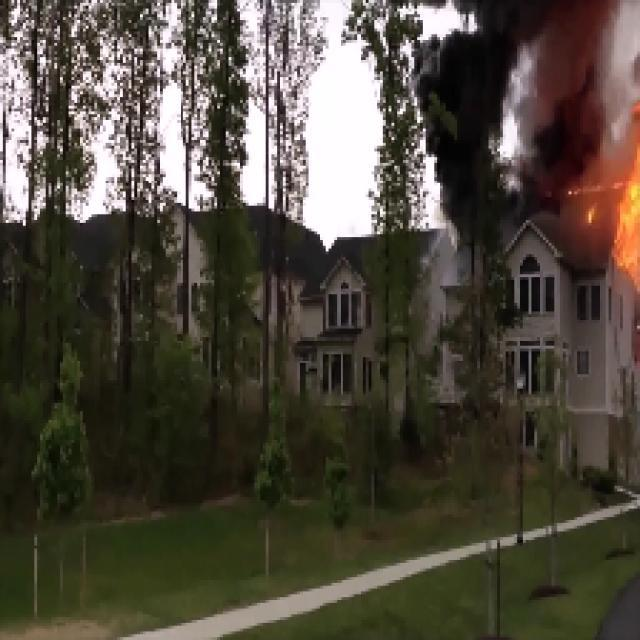Smoke: (414, 30, 530, 209), (536, 6, 605, 156)
